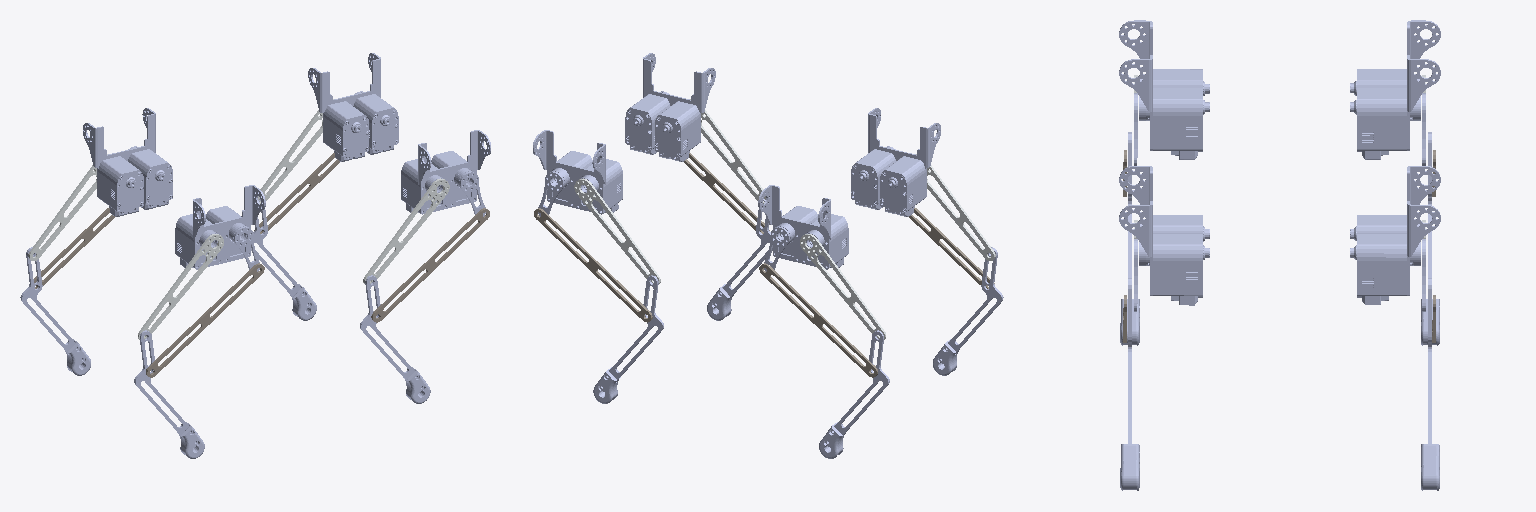
--- What the picture shows (computed from the rendered views, not written in the file) ---
The picture shows the robot from 3 angles, left to right: view 1: azimuth 30°, elevation 25°; view 2: azimuth 150°, elevation 25°; view 3: azimuth 270°, elevation 25°; orthographic projection.
Robot: stoch_two_abduction_urdf — 23 links, 22 joints (12 revolute, 8 continuous, 2 fixed); root link base_link; default pose: all joints at 0.
Visible links, largest first — view 1: back_left_abd_link, front_left_abd_link, back_right_abd_link, front_right_abd_link, bl_lower_hip_link, br_lower_hip_link, fr_lower_hip_link, br_lower_knee_link, fr_lower_knee_link, fr_upper_hip_link, br_upper_hip_link, fl_lower_hip_link (+4 smaller); view 2: back_right_abd_link, front_right_abd_link, back_left_abd_link, front_left_abd_link, br_lower_hip_link, fl_lower_hip_link, bl_lower_hip_link, bl_lower_knee_link, fl_lower_knee_link, fl_upper_hip_link, bl_upper_hip_link, fr_lower_hip_link (+4 smaller); view 3: back_left_abd_link, back_right_abd_link, front_right_abd_link, front_left_abd_link, fr_lower_hip_link, fl_lower_hip_link, br_lower_hip_link, bl_lower_hip_link.
Link boxes in pixels (x1,y1,x2,y2): back_left_abd_link: [83, 108, 172, 216]; front_left_abd_link: [308, 53, 398, 161]; back_right_abd_link: [175, 185, 265, 269]; front_right_abd_link: [401, 130, 490, 214]; bl_lower_hip_link: [20, 247, 90, 375]; br_lower_hip_link: [134, 330, 204, 458]; fr_lower_hip_link: [360, 275, 430, 403]; br_lower_knee_link: [146, 263, 264, 377]; fr_lower_knee_link: [371, 208, 489, 322]; fr_upper_hip_link: [363, 178, 449, 283]; br_upper_hip_link: [138, 234, 223, 339]; fl_lower_hip_link: [251, 199, 316, 320]; back_right_abd_link: [851, 108, 940, 216]; front_right_abd_link: [625, 53, 715, 161]; back_left_abd_link: [758, 185, 848, 269]; front_left_abd_link: [533, 130, 622, 214]; br_lower_hip_link: [933, 247, 1003, 375]; fl_lower_hip_link: [593, 275, 663, 403]; bl_lower_hip_link: [819, 330, 889, 458]; bl_lower_knee_link: [759, 263, 877, 377]; fl_lower_knee_link: [534, 208, 652, 322]; fl_upper_hip_link: [574, 178, 660, 283]; bl_upper_hip_link: [800, 234, 885, 339]; fr_lower_hip_link: [707, 199, 772, 320]; back_left_abd_link: [1350, 20, 1440, 159]; back_right_abd_link: [1119, 20, 1209, 159]; front_right_abd_link: [1119, 166, 1209, 305]; front_left_abd_link: [1350, 166, 1440, 304]; fr_lower_hip_link: [1120, 278, 1139, 490]; fl_lower_hip_link: [1421, 278, 1439, 490]; br_lower_hip_link: [1120, 132, 1139, 345]; bl_lower_hip_link: [1421, 132, 1439, 345].
Bounding box of the posed robot: 0.424 × 0.2532 × 0.2859 m (x, y, z).
Meshes: 9 distinct files referenced, 20 mesh visuals loaded (6 OBJ); not drawn: 3 (reference not matched to a file when rendering).

URDF robot description (stoch_two_abduction_urdf):
<robot
  name="stoch_two_abduction_urdf">
 <link
    name="base_link">
    <inertial>
      <origin
        xyz="-0.00018289 -0.00058314 -0.0014954"
        rpy="0 0 0" />
      <mass
        value="0.1" />
      <inertia
        ixx="1.703E-05"
        ixy="4.4289E-07"
        ixz="3.1832E-08"
        iyy="8.9209E-05"
        iyz="-1.5964E-06"

        izz="0.00010459" />
    </inertial>
    <visual>
      <origin
        xyz="0 0 0"
        rpy="1.57 0 0" />
      <geometry>
        <mesh
          filename="base_link.obj" />
      </geometry>
      <material
        name="">
        <color
          rgba="0.79216 0.81961 0.93333 1" />
      </material>
    </visual>
    <collision>
      <origin
        xyz="0 0 0"
        rpy="1.57 0 0" />
      <geometry>
        <mesh
          filename="base_link.obj" />
      </geometry>
    </collision>
  </link>



  <link
    name="front_body_link">
    <inertial>
      <origin
        xyz="0.088699 3.0745E-07 0.019722"
        rpy="0 0 0" />
      <mass
        value="1" />
      <inertia
        ixx="0.0022826"
        ixy="-5.8326E-09"
        ixz="-1.2357E-05"
        iyy="0.0005698"
        iyz="4.2795E-07"
        izz="0.0026158" />
    </inertial>
    <visual>
      <origin
        xyz="0 0 0"
        rpy="1.57 0 0" />
      <geometry>
        <mesh
          filename="front_body_link.obj" />
      </geometry>
      <material
        name="">
        <color
          rgba="0.79216 0.81961 0.93333 1" />
      </material>
    </visual>
    <collision>
      <origin
        xyz="0 0 0"
        rpy="1.57 0 0" />
      <geometry>
        <mesh
          filename="front_body_link.obj" />
      </geometry>
    </collision>
  </link>
  <joint
    name="motor_front_body_spine_joint"
    type="fixed">
    <origin
      xyz="0.050947 0 0"
      rpy="-2.2019E-15 1.7035E-16 3.4422E-15" />
    <parent
      link="base_link" />
    <child
      link="front_body_link" />
    <!-- <axis
      xyz="0 1 0" />
    <limit
      lower="-0.26"
      upper="0.26"
      effort="100"
      velocity="100" />
    <dynamics
      damping="0"
      friction="0" /> -->
  </joint>
  <link
    name="front_left_abd_link">
    <inertial>
      <origin
        xyz="4.118E-05 -0.032715 -0.048093"
        rpy="0 0 0" />
      <mass
        value="0.277" />
      <inertia
        ixx="1.1789E-05"
        ixy="2.5858E-08"
        ixz="1.1409E-07"
        iyy="4.0497E-05"
        iyz="-5.2784E-06"
        izz="4.3082E-05" />
    </inertial>
    <visual>
      <origin
        xyz="0 0 0"
        rpy="1.57 0 0" />
      <geometry>
        <mesh
          filename="front_left_abd_link.obj" />
      </geometry>
      <material
        name="">
        <color
          rgba="0.79216 0.81961 0.93333 1" />
      </material>
    </visual>
    <collision>
      <origin
        xyz="0 0 0"
        rpy="1.57 0 0" />
      <geometry>
        <mesh
          filename="front_left_abd_link.obj" />
      </geometry>
    </collision>
  </link>

  <joint
    name="motor_front_left_abd_joint"
    type="revolute">
    <origin
      xyz="0.0831 0.11512 0.0073929"
      rpy="-4.4959E-07 -5.8797E-16 3.47E-15" />
    <parent
      link="front_body_link" />
    <child
      link="front_left_abd_link" />
    <axis
      xyz="-1 0 0" />
    <limit
      lower="0.26"
      upper="-3.92"
      effort="100"
      velocity="100" />
    <dynamics
      damping="0"
      friction="0" />
  </joint>
<link
    name="fl_upper_hip_link">
    <inertial>
      <origin
        xyz="1.793E-07 2.498E-16 -0.054218"
        rpy="0 0 0" />
      <mass
        value="0.05" />
      <inertia
        ixx="0"
        ixy="0"
        ixz="0"
        iyy="0"
        iyz="0"
        izz="0" />
    </inertial>
    <visual>
      <origin
        xyz="0 0 0"
        rpy="1.57 0 0" />
      <geometry>
        <mesh
          filename="fl_upper_hip_link.obj" />
      </geometry>
      <material
        name="">
        <color
          rgba="0.89804 0.91765 0.92941 1" />
      </material>
    </visual>
    <collision>
      <origin
        xyz="0 0 0"
        rpy="1.57 0 0" />
      <geometry>
        <mesh
          filename="fl_upper_hip_link.obj" />
      </geometry>
    </collision>
  </link>
  <joint
    name="motor_fl_upper_hip_joint"
    type="revolute">
    <origin
      xyz="-0.0175 -0.0015 -0.0385"
      rpy="-5.3246E-15 0.78557 -4.3361E-15" />
    <parent
      link="front_left_abd_link" />
    <child
      link="fl_upper_hip_link" />
    <axis
      xyz="0 -1 0" />
    <limit
      lower="-0.78"
      upper="0.78"
      effort="100"
      velocity="100" />
    <dynamics
      damping="0"
      friction="0" />
  </joint>
<link
    name="fl_lower_hip_link">
    <inertial>
      <origin
        xyz="-0.034185 0.00011378 -0.11157"
        rpy="0 0 0" />
      <mass
        value="0.1" />
      <inertia
        ixx="9.59277e-06"
        ixy="5.4371E-09"
        ixz="-2.1257E-09"
        iyy="9.59277e-06"
        iyz="3.5983E-09"
        izz="9.59277e-06" />
    </inertial>
    <visual>
      <origin
        xyz="0 0 0"
        rpy="1.57 0 0" />
      <geometry>
        <mesh
          filename="fl_lower_hip_link.obj" />
      </geometry>
      <material
        name="">
        <color
          rgba="0.79216 0.81961 0.93333 1" />
      </material>
    </visual>
    <collision>
      <origin
        xyz="0 0 0"
        rpy="1.57 0 0" />
      <geometry>
        <mesh
          filename="fl_lower_hip_link.obj" />
      </geometry>
    </collision>
  </link>
  <joint
    name="fl_lower_hip_joint"
    type="continuous">
    <origin
      xyz="0 0.0045 -0.12"
      rpy="3.7352E-14 -1.4398 -3.7103E-14" />
    <parent
      link="fl_upper_hip_link" />
    <child
      link="fl_lower_hip_link" />
    <axis
      xyz="0 1 0" />
  </joint>
 <link
    name="fl_upper_knee_link">
    <inertial>
      <origin
        xyz="-2.7756E-17 1.3878E-17 -0.014638"
        rpy="0 0 0" />
      <mass
        value="0.1" />
      <inertia
        ixx="1.4068E-05"
        ixy="5.4371E-09"
        ixz="-2.1257E-09"
        iyy="1.4389E-05"
        iyz="3.5983E-09"
        izz="1.4389E-05" />
    </inertial>
    <visual>
      <origin
        xyz="0 0 0"
        rpy="1.57 0 0" />
      <geometry>
        <mesh
          filename="fl_upper_knee_link.obj" />
      </geometry>
      <material
        name="">
        <color
          rgba="0.79216 0.81961 0.93333 1" />
      </material>
    </visual>
    <collision>
      <origin
        xyz="0 0 0"
        rpy="1.57 0 0" />
      <geometry>
        <mesh
          filename="fl_upper_knee_link.obj" />
      </geometry>
    </collision>
  </link>
  <joint
    name="motor_fl_upper_knee_joint"
    type="revolute">
    <origin
      xyz="0.0175 -0.0015 -0.0385"
      rpy="-2.4427E-16 -0.34913 -3.4692E-15" />
    <parent
      link="front_left_abd_link" />
    <child
      link="fl_upper_knee_link" />
    <axis
      xyz="0 -1 0" />
    <limit
      lower="-1.22"
      upper="1.22"
      effort="100"
      velocity="100" />
    <dynamics
      damping="0"
      friction="0" />
  </joint>

<link
    name="fl_lower_knee_link">
    <inertial>
      <origin
        xyz="2.7756E-17 1.3878E-17 -0.0775"
        rpy="0 0 0" />
      <mass
        value="0.1" />
      <inertia
        ixx="1.4068E-05"
        ixy="5.4371E-09"
        ixz="-2.1257E-09"
        iyy="1.4389E-05"
        iyz="3.5983E-09"
        izz="1.4389E-05" />
    </inertial>
    <visual>
      <origin
        xyz="0 0 0"
        rpy="1.57 0 0" />
      <geometry>
        <mesh
          filename="fl_lower_knee_link.obj" />
      </geometry>
      <material
        name="">
        <color
          rgba="0.65098 0.61961 0.58824 1" />
      </material>
    </visual>
    <collision>
      <origin
        xyz="0 0 0"
        rpy="1.57 0 0" />
      <geometry>
        <mesh
          filename="fl_lower_knee_link.obj" />
      </geometry>
    </collision>
  </link>
  <joint
    name="fl_lower_knee_joint"
    type="continuous">
    <origin
      xyz="0 0.00800000000000321 -0.04"
      rpy="-6.00351684713904E-16 1.32467433907094 -5.43469254040339E-16" />
    <parent
      link="fl_upper_knee_link" />
    <child
      link="fl_lower_knee_link" />
    <axis
      xyz="0 0.999999999999798 0" />
  </joint>

  


  <link
    name="front_right_abd_link">
    <inertial>
      <origin
        xyz="-4.118E-05 0.032715 -0.048093"
        rpy="0 0 0" />
      <mass
        value="0.277" />
      <inertia
        ixx="1.1789E-05"
        ixy="2.5858E-08"
        ixz="-1.1409E-07"
        iyy="4.0497E-05"
        iyz="5.2784E-06"
        izz="4.3082E-05" />
    </inertial>
    <visual>
      <origin
        xyz="0 0 0"
        rpy="1.57 0 0" />
      <geometry>
        <mesh
          filename="front_right_abd_link.obj" />
      </geometry>
      <material
        name="">
        <color
          rgba="0.79216 0.81961 0.93333 1" />
      </material>
    </visual>
    <collision>
      <origin
        xyz="0 0 0"
        rpy="1.57 0 0" />
      <geometry>
        <mesh
          filename="front_right_abd_link.obj" />
      </geometry>
    </collision>
  </link>
  <joint
    name="motor_front_right_abd_joint"
    type="revolute">
    <origin
      xyz="0.0831 -0.11512 0.007393"
      rpy="-6.5915E-08 5.6553E-16 3.5412E-15" />
    <parent
      link="front_body_link" />
    <child
      link="front_right_abd_link" />
    <axis
      xyz="1 0 0" />
    <limit
      lower="0.26"
      upper="-3.92"
      effort="100"
      velocity="100" />
    <dynamics
      damping="0"
      friction="0" />
  </joint>

<link
    name="fr_upper_hip_link">
    <inertial>
      <origin
        xyz="1.793E-07 2.7756E-16 -0.054218"
        rpy="0 0 0" />
      <mass
        value="0.1" />
      <inertia
        ixx="1.4068E-05"
        ixy="5.4371E-09"
        ixz="-2.1257E-09"
        iyy="1.4389E-05"
        iyz="3.5983E-09"
        izz="1.4389E-05" />
    </inertial>
    <visual>
      <origin
        xyz="0 0 0"
        rpy="1.57 0 0" />
      <geometry>
        <mesh
          filename="fl_upper_hip_link.obj" />
      </geometry>
      <material
        name="">
        <color
          rgba="0.89804 0.91765 0.92941 1" />
      </material>
    </visual>
    <collision>
      <origin
        xyz="0 0 0"
        rpy="1.57 0 0" />
      <geometry>
        <mesh
          filename="fl_upper_hip_link.obj" />
      </geometry>
    </collision>
  </link>
  <joint
    name="motor_fr_upper_hip_joint"
    type="revolute">
    <origin
      xyz="-0.0175 0.0015 -0.0385"
      rpy="-4.9286E-15 0.78557 -3.9063E-15" />
    <parent
      link="front_right_abd_link" />
    <child
      link="fr_upper_hip_link" />
    <axis
      xyz="0 -1 0" />
    <limit
      lower="-0.78"
      upper="0.78"
      effort="100"
      velocity="100" />
    <dynamics
      damping="0"
      friction="0" />
  </joint>
<link
    name="fr_lower_hip_link">
    <inertial>
      <origin
        xyz="-0.034185 0.00011378 -0.11157"
        rpy="0 0 0" />
      <mass
        value="0.1" />
      <inertia
        ixx="9.59277e-06"
        ixy="5.4371E-09"
        ixz="-2.1257E-06"
        iyy="9.59277e-06"
        iyz="3.5983E-08"
        izz="9.59277e-06" />
    </inertial>
    <visual>
      <origin
        xyz="0 0 0"
        rpy="1.57 0 0" />
      <geometry>
        <mesh
          filename="fl_lower_hip_link.obj" />
      </geometry>
      <material
        name="">
        <color
          rgba="0.79216 0.81961 0.93333 1" />
      </material>
    </visual>
    <collision>
      <origin
        xyz="0 0 0"
        rpy="1.57 0 0" />
      <geometry>
        <mesh
          filename="fl_lower_hip_link.obj" />
      </geometry>
    </collision>
  </link>
  <joint
    name="fr_lower_hip_joint"
    type="continuous">
    <origin
      xyz="0 -0.0045 -0.12"
      rpy="0 -1.4398 0" />
    <parent
      link="fr_upper_hip_link" />
    <child
      link="fr_lower_hip_link" />
    <axis
      xyz="0 1 0" />
  </joint>

  <link
    name="fr_upper_knee_link">
    <inertial>
      <origin
        xyz="-2.7756E-17 -1.3878E-17 -0.014638"
        rpy="0 0 0" />
      <mass
        value="0.1" />
      <inertia
        ixx="1.4068E-05"
        ixy="5.4371E-09"
        ixz="-2.1257E-09"
        iyy="1.4389E-05"
        iyz="3.5983E-09"
        izz="1.4389E-05" />
    </inertial>
    <visual>
      <origin
        xyz="0 0 0"
        rpy="1.57 0 0" />
      <geometry>
        <mesh
          filename="fl_upper_knee_link.obj" />
      </geometry>
      <material
        name="">
        <color
          rgba="0.79216 0.81961 0.93333 1" />
      </material>
    </visual>
    <collision>
      <origin
        xyz="0 0 0"
        rpy="1.57 0 0" />
      <geometry>
        <mesh
          filename="fl_upper_knee_link.obj" />
      </geometry>
    </collision>
  </link>
  <joint
    name="motor_fr_upper_knee_joint"
    type="revolute">
    <origin
      xyz="0.0175 0.0015 -0.0385"
      rpy="2.2844E-18 -0.34913 -3.3454E-15" />
    <parent
      link="front_right_abd_link" />
    <child
      link="fr_upper_knee_link" />
    <axis
      xyz="0 -1 0" />
    <limit
      lower="-1.22"
      upper="1.22"
      effort="100"
      velocity="100" />
    <dynamics
      damping="0"
      friction="0" />
  </joint>
  <link
    name="fr_lower_knee_link">
    <inertial>
      <origin
        xyz="2.7756E-17 -1.3878E-17 -0.0775"
        rpy="0 0 0" />
      <mass
        value="0.1" />
      <inertia
        ixx="1.4068E-05"
        ixy="5.4371E-09"
        ixz="-2.1257E-09"
        iyy="1.4389E-05"
        iyz="3.5983E-09"
        izz="1.4389E-05" />
    </inertial>
    <visual>
      <origin
        xyz="0 0 0"
        rpy="1.57 0 0" />
      <geometry>
        <mesh
          filename="fl_lower_knee_link.obj" />
      </geometry>
      <material
        name="">
        <color
          rgba="0.65098 0.61961 0.58824 1" />
      </material>
    </visual>
    <collision>
      <origin
        xyz="0 0 0"
        rpy="1.57 0 0" />
      <geometry>
        <mesh
          filename="fl_lower_knee_link.obj" />
      </geometry>
    </collision>
  </link>
  <joint
    name="fr_lower_knee_joint"
    type="continuous">
    <origin
      xyz="0 -0.008 -0.04"
      rpy="-1.3511E-15 1.3247 -1.2659E-15" />
    <parent
      link="fr_upper_knee_link" />
    <child
      link="fr_lower_knee_link" />
    <axis
      xyz="0 1 0" />
  </joint>



















  <link
    name="back_body_link">
    <inertial>
      <origin
        xyz="-0.088631 -3.0557E-07 0.019269"
        rpy="0 0 0" />
      <mass
        value="1.43" />
      <inertia
        ixx="0.0022927"
        ixy="-5.8531E-09"
        ixz="-7.6887E-08"
        iyy="0.00058938"
        iyz="4.2524E-07"
        izz="0.0026252" />
    </inertial>
    <visual>
      <origin
        xyz="0 0 0"
        rpy="1.57 0 0" />
      <geometry>
        <mesh
          filename="back_body_link.obj" />
      </geometry>
      <material
        name="">
        <color
          rgba="0.79216 0.81961 0.93333 1" />
      </material>
    </visual>
    <collision>
      <origin
        xyz="0 0 0"
        rpy="1.57 0 0" />
      <geometry>
        <mesh
          filename="back_body_link.obj" />
      </geometry>
    </collision>
  </link>
  <joint
    name="motor_back_body_spine_joint"
    type="fixed">
    <origin
      xyz="-0.051053 0 0"
      rpy="-3.1503E-15 1.7035E-16 -1.0297E-14" />
    <parent
      link="base_link" />
    <child
      link="back_body_link" />
    <!-- <axis
      xyz="0 1 0" />
    <limit
      lower="-0.26"
      upper="0.26"
      effort="100"
      velocity="100" />
    <dynamics
      damping="0"
      friction="0" /> -->
  </joint>

<link
    name="back_left_abd_link">
    <inertial>
      <origin
        xyz="4.118E-05 -0.032715 -0.048093"
        rpy="0 0 0" />
      <mass
        value="0.277" />
      <inertia
        ixx="1.1789E-05"
        ixy="2.5858E-08"
        ixz="1.1409E-07"
        iyy="4.0497E-05"
        iyz="-5.2784E-06"
        izz="4.3082E-05" />
    </inertial>
    <visual>
      <origin
        xyz="0 0 0"
        rpy="1.57 0 0" />
      <geometry>
        <mesh
          filename="front_left_abd_link.obj" />
      </geometry>
      <material
        name="">
        <color
          rgba="0.79216 0.81961 0.93333 1" />
      </material>
    </visual>
    <collision>
      <origin
        xyz="0 0 0"
        rpy="1.57 0 0" />
      <geometry>
        <mesh
          filename="front_left_abd_link.obj" />
      </geometry>
    </collision>
  </link>
  <joint
    name="motor_back_left_abd_joint"
    type="revolute">
    <origin
      xyz="-0.0857 0.11512 0.007393"
      rpy="-4.4959E-07 -3.1031E-16 -5.0331E-14" />
    <parent
      link="back_body_link" />
    <child
      link="back_left_abd_link" />
    <axis
      xyz="-1 0 0" />
    <limit
      lower="0.26"
      upper="-3.92"
      effort="100"
      velocity="100" />
    <dynamics
      damping="0"
      friction="0" />
  </joint>
  <link
    name="bl_upper_hip_link">
    <inertial>
      <origin
        xyz="1.793E-07 2.498E-16 -0.054218"
        rpy="0 0 0" />
      <mass
        value="0.1" />
      <inertia
        ixx="1.4068E-05"
        ixy="5.4371E-09"
        ixz="-2.1257E-09"
        iyy="1.4389E-05"
        iyz="3.5983E-09"
        izz="1.4389E-05" />
    </inertial>
    <visual>
      <origin
        xyz="0 0 0"
        rpy="1.57 0 0" />
      <geometry>
        <mesh
          filename="fl_upper_hip_link.obj" />
      </geometry>
      <material
        name="">
        <color
          rgba="0.89804 0.91765 0.92941 1" />
      </material>
    </visual>
    <collision>
      <origin
        xyz="0 0 0"
        rpy="1.57 0 0" />
      <geometry>
        <mesh
          filename="fl_upper_hip_link.obj" />
      </geometry>
    </collision>
  </link>
  <joint
    name="motor_bl_upper_hip_joint"
    type="revolute">
    <origin
      xyz="-0.0175 -0.0015 -0.0385"
      rpy="-4.7626E-15 0.7854 3.3627E-15" />
    <parent
      link="back_left_abd_link" />
    <child
      link="bl_upper_hip_link" />
    <axis
      xyz="0 -1 0" />
    <limit
      lower="-0.78"
      upper="0.78"
      effort="100"
      velocity="100" />
    <dynamics
      damping="0"
      friction="0" />
  </joint>

<link
    name="bl_lower_hip_link">
    <inertial>
      <origin
        xyz="-0.034185 0.00011378 -0.11157"
        rpy="0 0 0" />
      <mass
        value="0.1" />
      <inertia
        ixx="9.59277e-06"
        ixy="5.4371E-09"
        ixz="-2.1257E-06"
        iyy="9.59277e-06"
        iyz="3.5983E-08"
        izz="9.59277e-06" />
    </inertial>
    <visual>
      <origin
        xyz="0 0 0"
        rpy="1.57 0 0" />
      <geometry>
        <mesh
          filename="fl_lower_hip_link.obj" />
      </geometry>
      <material
        name="">
        <color
          rgba="0.79216 0.81961 0.93333 1" />
      </material>
    </visual>
    <collision>
      <origin
        xyz="0 0 0"
        rpy="1.57 0 0" />
      <geometry>
        <mesh
          filename="fl_lower_hip_link.obj" />
      </geometry>
    </collision>
  </link>
  <joint
    name="bl_lower_hip_joint"
    type="continuous">
    <origin
      xyz="0 0.0045 -0.12"
      rpy="3.8659E-14 -1.4394 -3.8737E-14" />
    <parent
      link="bl_upper_hip_link" />
    <child
      link="bl_lower_hip_link" />
    <axis
      xyz="0 1 0" />
  </joint>
  <link
    name="bl_upper_knee_link">
    <inertial>
      <origin
        xyz="0 1.3878E-17 -0.014638"
        rpy="0 0 0" />
      <mass
        value="0.1" />
      <inertia
        ixx="1.4068E-05"
        ixy="5.4371E-09"
        ixz="-2.1257E-09"
        iyy="1.4389E-05"
        iyz="3.5983E-09"
        izz="1.4389E-05" />
    </inertial>
    <visual>
      <origin
        xyz="0 0 0"
        rpy="1.57 0 0" />
      <geometry>
        <mesh
          filename="fl_upper_knee_link.obj" />
      </geometry>
      <material
        name="">
        <color
          rgba="0.79216 0.81961 0.93333 1" />
      </material>
    </visual>
    <collision>
      <origin
        xyz="0 0 0"
        rpy="1.57 0 0" />
      <geometry>
        <mesh
          filename="fl_upper_knee_link.obj" />
      </geometry>
    </collision>
  </link>
  <joint
    name="motor_bl_upper_knee_joint"
    type="revolute">
    <origin
      xyz="0.0175 -0.0015 -0.0385"
      rpy="-6.7366E-18 -0.34907 3.4938E-15" />
    <parent
      link="back_left_abd_link" />
    <child
      link="bl_upper_knee_link" />
    <axis
      xyz="0 -1 0" />
    <limit
      lower="-1.22"
      upper="1.22"
      effort="100"
      velocity="100" />
    <dynamics
      damping="0"
      friction="0" />
  </joint>

<link
    name="bl_lower_knee_link">
    <inertial>
      <origin
        xyz="1.301E-18 0 -0.0775"
        rpy="0 0 0" />
      <mass
        value="0.1" />
      <inertia
        ixx="1.4068E-05"
        ixy="5.4371E-09"
        ixz="-2.1257E-09"
        iyy="1.4389E-05"
        iyz="3.5983E-09"
        izz="1.4389E-05" />
    </inertial>
    <visual>
      <origin
        xyz="0 0 0"
        rpy="1.57 0 0" />
      <geometry>
        <mesh
          filename="fl_lower_knee_link.obj" />
      </geometry>
      <material
        name="">
        <color
          rgba="0.65098 0.61961 0.58824 1" />
      </material>
    </visual>
    <collision>
      <origin
        xyz="0 0 0"
        rpy="1.57 0 0" />
      <geometry>
        <mesh
          filename="fl_lower_knee_link.obj" />
      </geometry>
    </collision>
  </link>
  <joint
    name="bl_lower_knee_joint"
    type="continuous">
    <origin
      xyz="0 0.008 -0.04"
      rpy="-1.9439E-16 1.3245 -1.3657E-16" />
    <parent
      link="bl_upper_knee_link" />
    <child
      link="bl_lower_knee_link" />
    <axis
      xyz="0 1 0" />
  </joint>
  <link
    name="back_right_abd_link">
    <inertial>
      <origin
        xyz="-4.118E-05 0.032715 -0.048093"
        rpy="0 0 0" />
      <mass
        value="0.277" />
      <inertia
        ixx="1.1789E-05"
        ixy="2.5858E-08"
        ixz="-1.1409E-07"
        iyy="4.0497E-05"
        iyz="5.2784E-06"
        izz="4.3082E-05" />
    </inertial>
    <visual>
      <origin
        xyz="0 0 0"
        rpy="1.57 0 0" />
      <geometry>
        <mesh
          filename="front_right_abd_link.obj" />
      </geometry>
      <material
        name="">
        <color
          rgba="0.79216 0.81961 0.93333 1" />
      </material>
    </visual>
    <collision>
      <origin
        xyz="0 0 0"
        rpy="1.57 0 0" />
      <geometry>
        <mesh
          filename="front_right_abd_link.obj" />
      </geometry>
    </collision>
  </link>
  <joint
    name="motor_back_right_abd_joint"
    type="revolute">
    <origin
      xyz="-0.0857 -0.11512 0.007393"
      rpy="4.4959E-07 8.3667E-16 1.0447E-14" />
    <parent
      link="back_body_link" />
    <child
      link="back_right_abd_link" />
    <axis
      xyz="1 0 0" />
    <limit
      lower="0.26"
      upper="-3.92"
      effort="100"
      velocity="100" />
    <dynamics
      damping="0"
      friction="0" />
  </joint>

<link
    name="br_upper_hip_link">
    <inertial>
      <origin
        xyz="1.793E-07 2.3592E-16 -0.054218"
        rpy="0 0 0" />
      <mass
        value="0.1" />
      <inertia
        ixx="1.4068E-05"
        ixy="5.4371E-09"
        ixz="-2.1257E-09"
        iyy="1.4389E-05"
        iyz="3.5983E-09"
        izz="1.4389E-05" />
    </inertial>
    <visual>
      <origin
        xyz="0 0 0"
        rpy="1.57 0 0" />
      <geometry>
        <mesh
          filename="fl_upper_hip_link.obj" />
      </geometry>
      <material
        name="">
        <color
          rgba="0.89804 0.91765 0.92941 1" />
      </material>
    </visual>
    <collision>
      <origin
        xyz="0 0 0"
        rpy="1.57 0 0" />
      <geometry>
        <mesh
          filename="fl_upper_hip_link.obj" />
      </geometry>
    </collision>
  </link>
  <joint
    name="motor_br_upper_hip_joint"
    type="revolute">
    <origin
      xyz="-0.0175 0.0015 -0.0385"
      rpy="-5.0242E-15 0.7854 4.6722E-14" />
    <parent
      link="back_right_abd_link" />
    <child
      link="br_upper_hip_link" />
    <axis
      xyz="0 -1 0" />
    <limit
      lower="-0.78"
      upper="0.78"
      effort="100"
      velocity="100" />
    <dynamics
      damping="0"
      friction="0" />
  </joint>
  <link
    name="br_lower_hip_link">
    <inertial>
      <origin
        xyz="-0.034185 0.00011378 -0.11157"
        rpy="0 0 0" />
      <mass
        value="0.1" />
      <inertia
        ixx="9.59277e-06"
        ixy="5.4371E-09"
        ixz="-2.1257E-06"
        iyy="9.59277e-06"
        iyz="3.5983E-08"
        izz="9.59277e-06" />
    </inertial>
    <visual>
      <origin
        xyz="0 0 0"
        rpy="1.57 0 0" />
      <geometry>
        <mesh
          filename="fl_lower_hip_link.obj" />
      </geometry>
      <material
        name="">
        <color
          rgba="0.79216 0.81961 0.93333 1" />
      </material>
    </visual>
    <collision>
      <origin
        xyz="0 0 0"
        rpy="1.57 0 0" />
      <geometry>
        <mesh
          filename="fl_lower_hip_link.obj" />
      </geometry>
    </collision>
  </link>
  <joint
    name="br_lower_hip_joint"
    type="continuous">
    <origin
      xyz="0 -0.0045 -0.12"
      rpy="3.8983E-14 -1.4388 -3.8443E-14" />
    <parent
      link="br_upper_hip_link" />
    <child
      link="br_lower_hip_link" />
    <axis
      xyz="0 1 0" />
  </joint>
  <link
    name="br_upper_knee_link">
    <inertial>
      <origin
        xyz="2.7756E-17 -1.3878E-17 -0.014638"
        rpy="0 0 0" />
      <mass
        value="0.1" />
      <inertia
        ixx="1.4068E-05"
        ixy="5.4371E-09"
        ixz="-2.1257E-09"
        iyy="1.4389E-05"
        iyz="3.5983E-09"
        izz="1.4389E-05" />
    </inertial>
    <visual>
      <origin
        xyz="0 0 0"
        rpy="1.57 0 0" />
      <geometry>
        <mesh
          filename="fl_upper_knee_link.obj" />
      </geometry>
      <material
        name="">
        <color
          rgba="0.79216 0.81961 0.93333 1" />
      </material>
    </visual>
    <collision>
      <origin
        xyz="0 0 0"
        rpy="1.57 0 0" />
      <geometry>
        <mesh
          filename="fl_upper_knee_link.obj" />
      </geometry>
    </collision>
  </link>
  <joint
    name="motor_br_upper_knee_joint"
    type="revolute">
    <origin
      xyz="0.0175 0.0015 -0.0385"
      rpy="1.0343E-16 -0.34907 4.7367E-14" />
    <parent
      link="back_right_abd_link" />
    <child
      link="br_upper_knee_link" />
    <axis
      xyz="0 -1 0" />
    <limit
      lower="-1.22"
      upper="1.22"
      effort="100"
      velocity="100" />
    <dynamics
      damping="0"
      friction="0" />
  </joint>
  <link
    name="br_lower_knee_link">
    <inertial>
      <origin
        xyz="-2.6021E-17 -2.7756E-17 -0.0775"
        rpy="0 0 0" />
      <mass
        value="0.1" />
      <inertia
        ixx="1.4068E-05"
        ixy="5.4371E-09"
        ixz="-2.1257E-09"
        iyy="1.4389E-05"
        iyz="3.5983E-09"
        izz="1.4389E-05" />
    </inertial>
    <visual>
      <origin
        xyz="0 0 0"
        rpy="1.57 0 0" />
      <geometry>
        <mesh
          filename="fl_lower_knee_link.obj" />
      </geometry>
      <material
        name="">
        <color
          rgba="0.65098 0.61961 0.58824 1" />
      </material>
    </visual>
    <collision>
      <origin
        xyz="0 0 0"
        rpy="1.57 0 0" />
      <geometry>
        <mesh
          filename="fl_lower_knee_link.obj" />
      </geometry>
    </collision>
  </link>
  <joint
    name="br_lower_knee_joint"
    type="continuous">
    <origin
      xyz="0 -0.008 -0.04"
      rpy="7.1694E-17 1.3245 4.3167E-17" />
    <parent
      link="br_upper_knee_link" />
    <child
      link="br_lower_knee_link" />
    <axis
      xyz="0 1 0" />
  </joint>

</robot>
